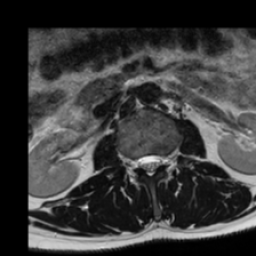CCS_normal: (145, 148, 153, 181)
LFS_normal: (161, 149, 168, 172)
LLS_normal: (153, 148, 161, 175)
RFS_normal: (131, 151, 139, 174)
RLS_normal: (137, 150, 145, 174)
